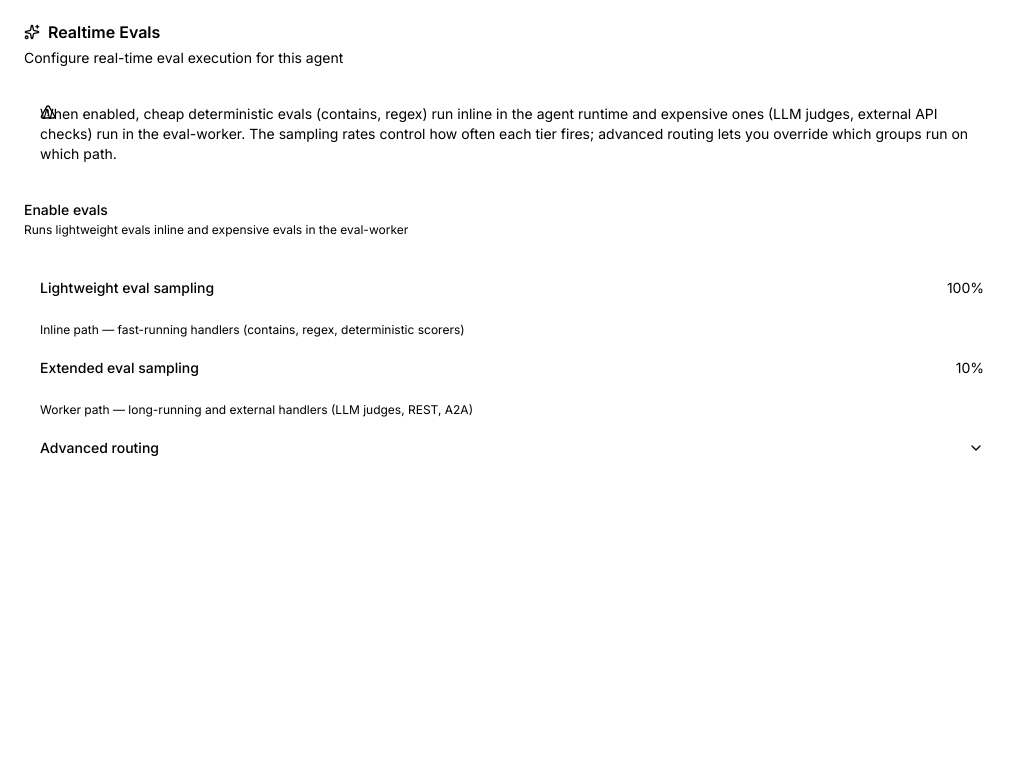
Scenario: EvalConfigPanel › advanced routing › offers the four built-in groups when no pack is configured
Click the button "Advanced routing". click: (100, 448)
box: [40,438,984,458]
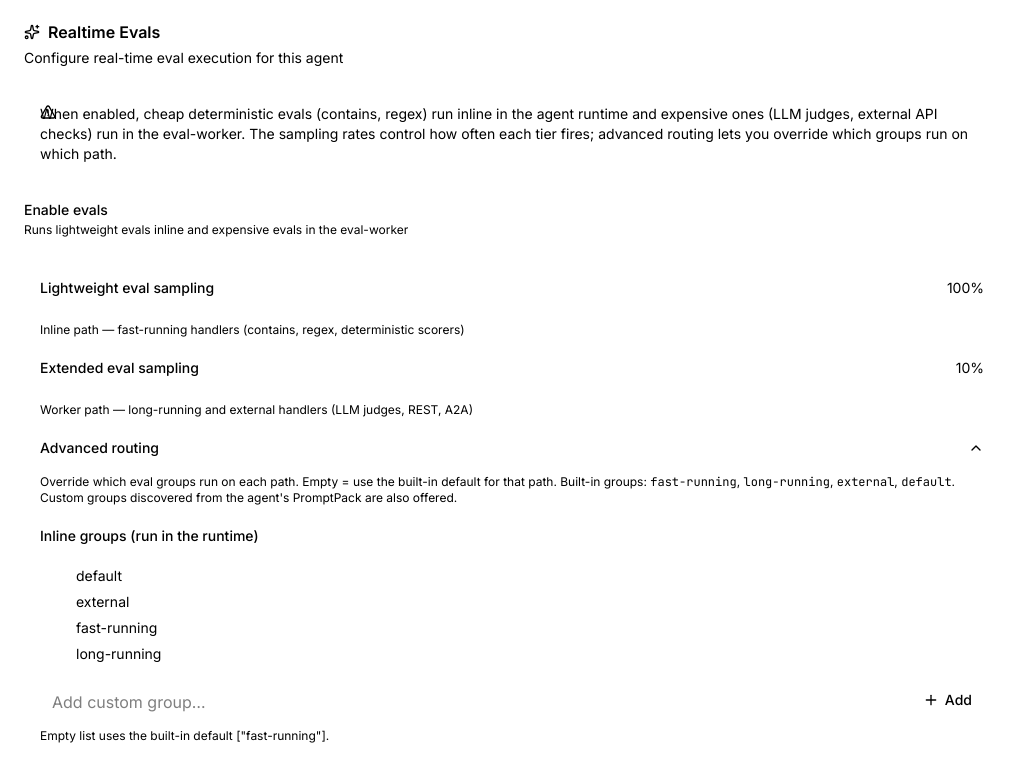
Result: the 1st text "default" is shown at [901,474,952,490]
Result: the 1st text "fast-running" is shown at [650,474,737,490]
Result: the 1st text "long-running" is shown at [744,474,830,490]
